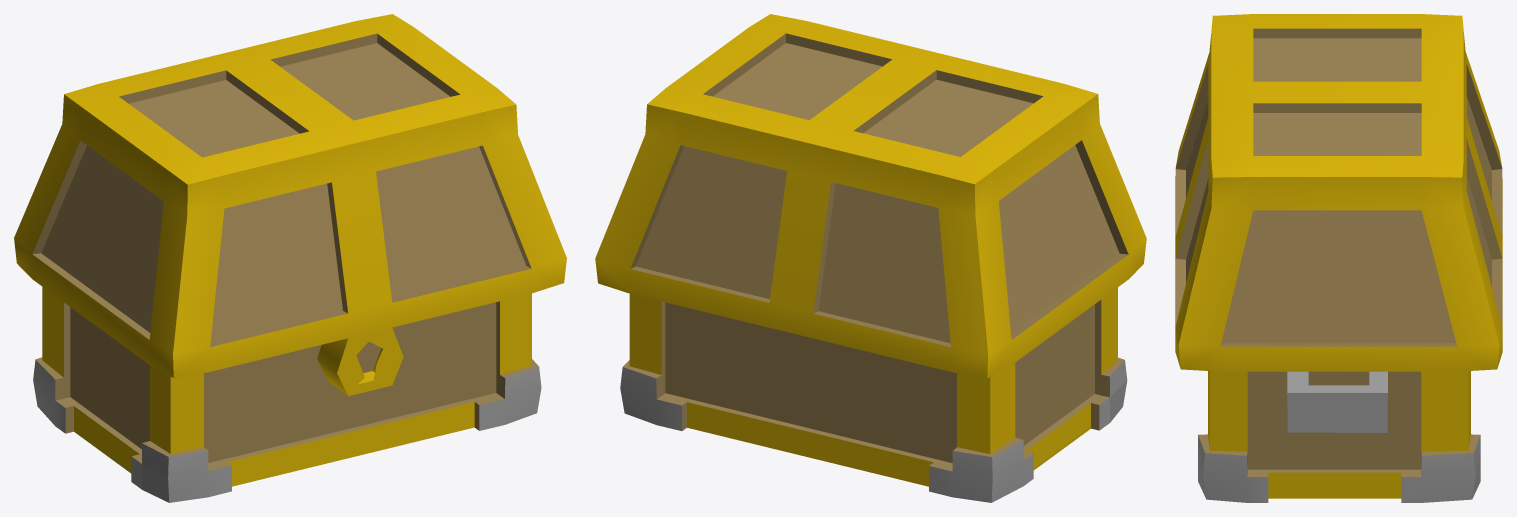
File: Chest.fbx
3 renders of one model, left to right at view 1: azimuth 30°, elevation 25°; view 2: azimuth 150°, elevation 25°; view 3: azimuth 270°, elevation 25°, orthographic.
Visible parts, largest first — view 1: polySurface4; view 2: polySurface4; view 3: polySurface4.
Part boxes in pixels (x1,y1,x2,y2): polySurface4: [14, 14, 566, 502]; polySurface4: [595, 14, 1146, 502]; polySurface4: [1175, 14, 1502, 502].
Bounding box in the file's own units: 2.9 × 2.07 × 1.93.
